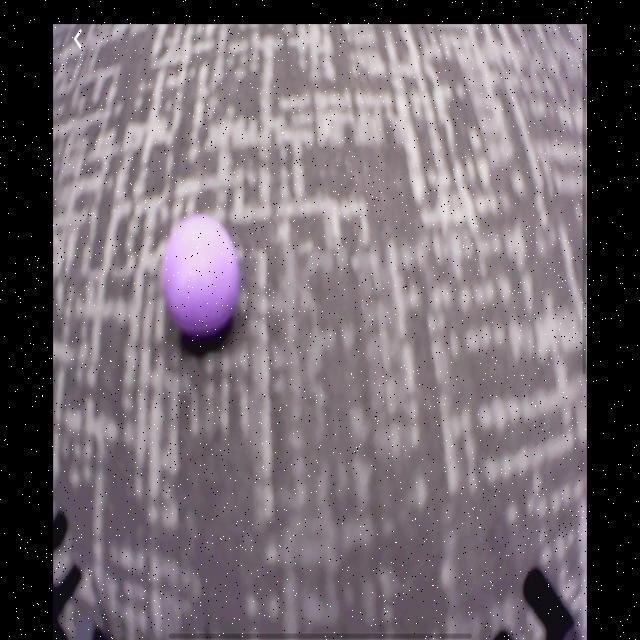ball: (161, 215, 242, 343)
